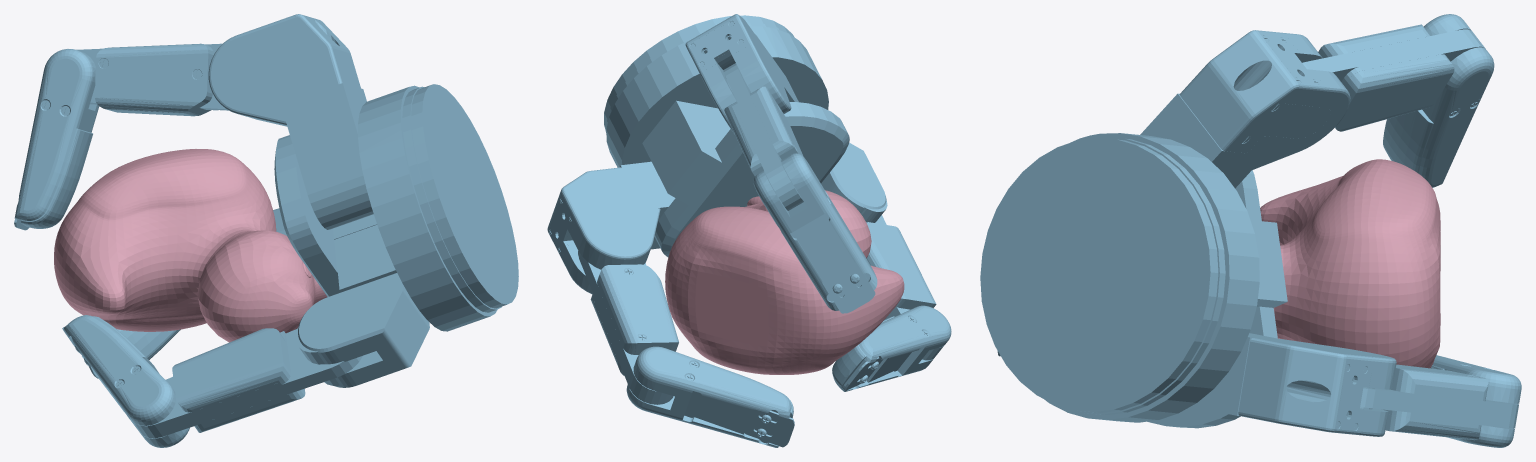
3 views of the same model, side by side, from view 1: azimuth 30°, elevation 25°; view 2: azimuth 150°, elevation 25°; view 3: azimuth 270°, elevation 25° (orthographic). The views are drawn at different scales.
Visible parts, largest first — view 1: world; view 2: world; view 3: world.
Part boxes in pixels (x1,y1,x2,y2): world: (14, 14, 518, 447); world: (547, 14, 951, 447); world: (980, 14, 1521, 447).
Bounding box in the file's own units: 0.1658 × 0.1577 × 0.1676.
